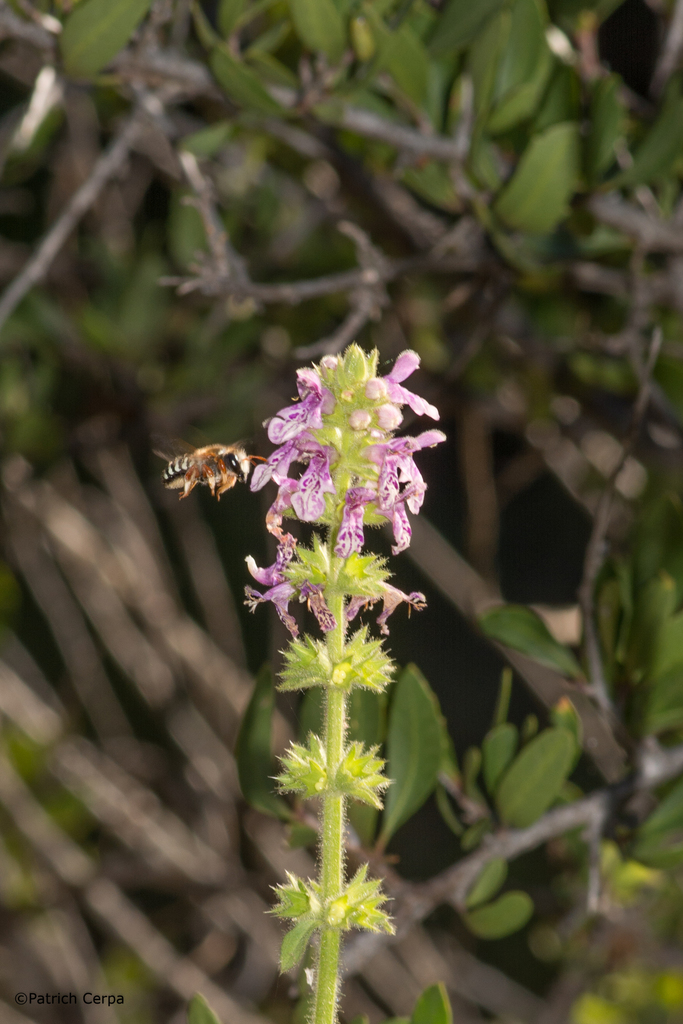not_bumblebee: (148, 434, 274, 506)
